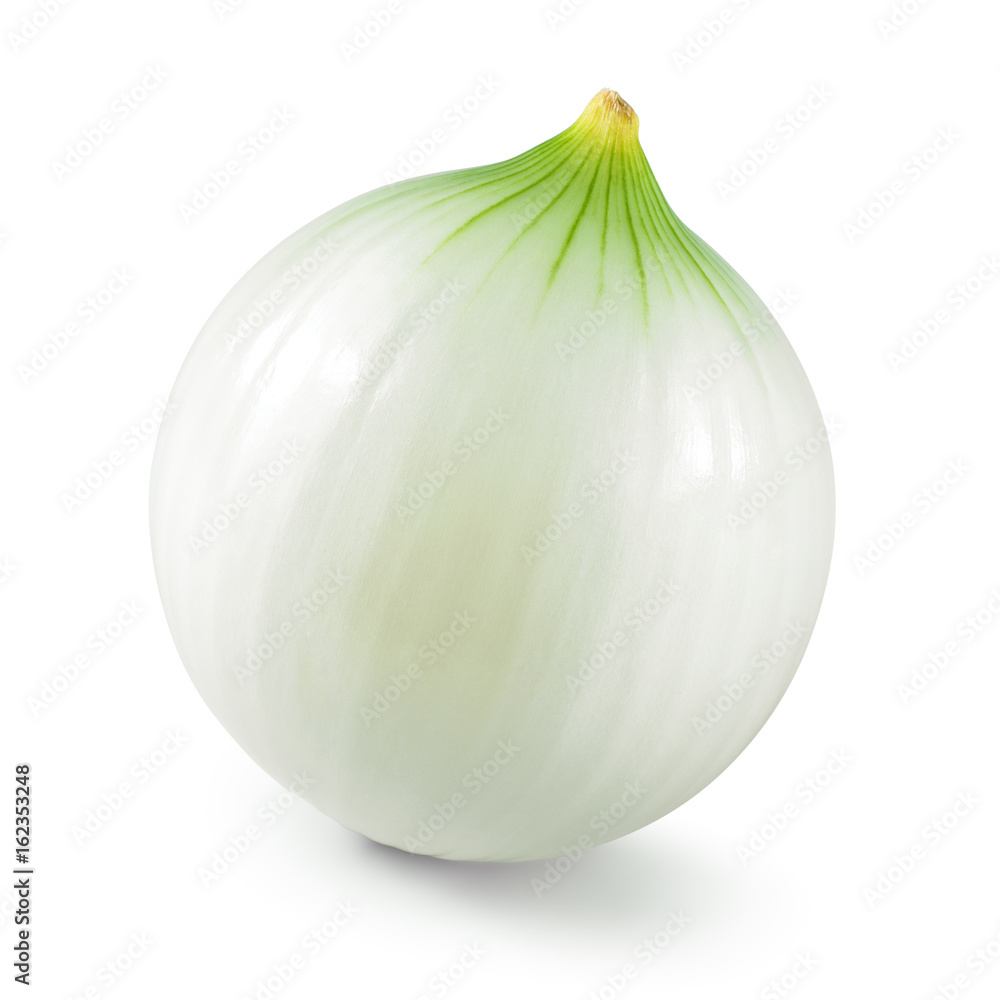onion: (75, 30, 918, 928)
